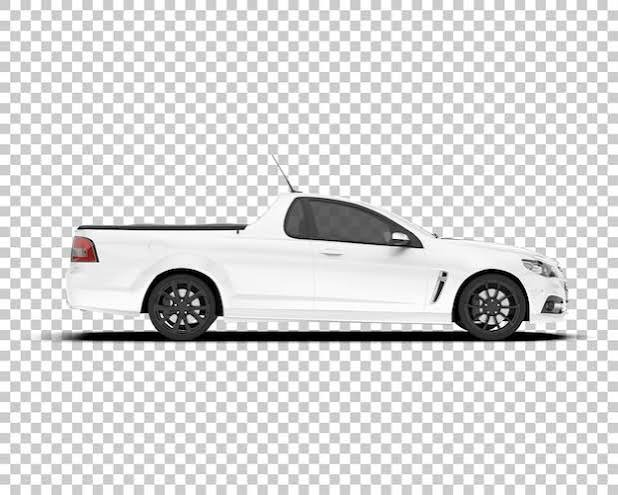car: (53, 189, 548, 338)
